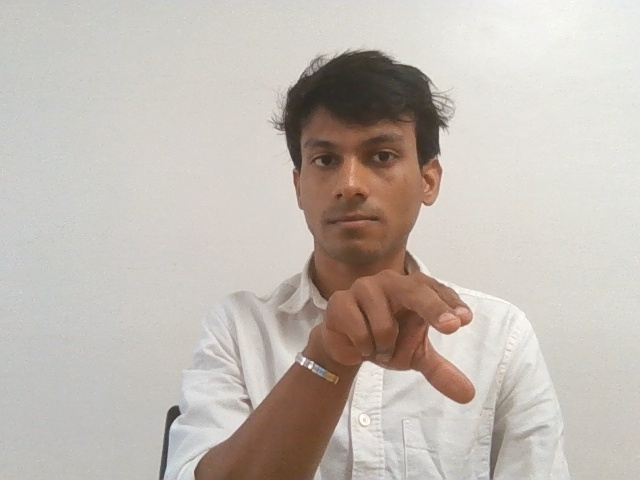No: (313, 258, 483, 407)
